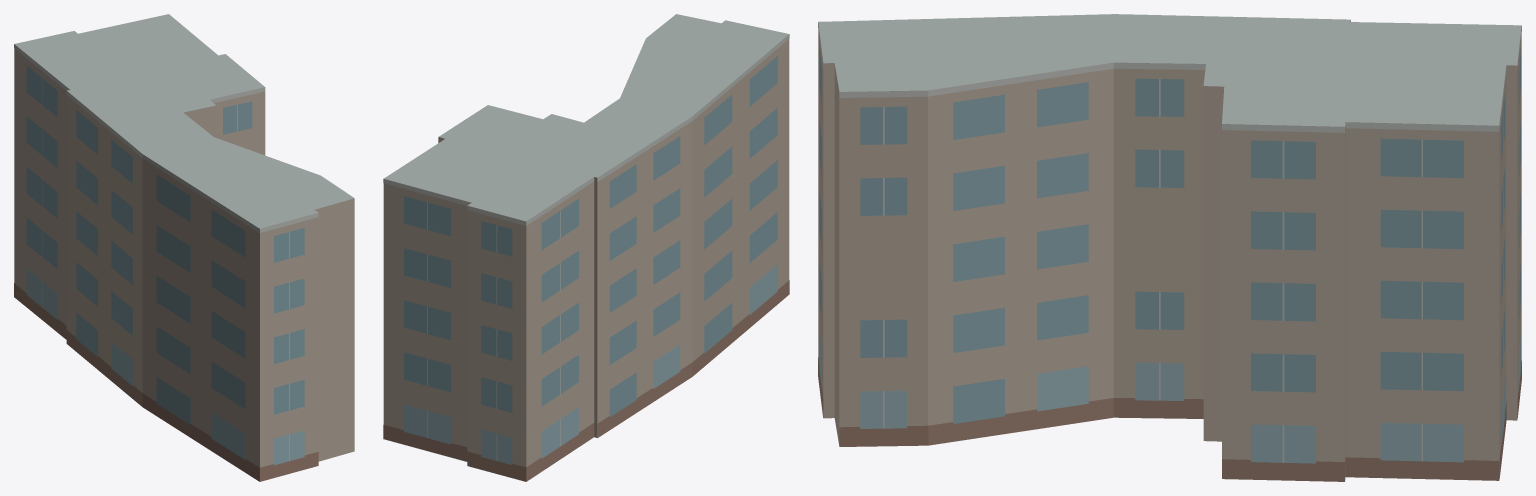
File: survey-upis-32520520.glb
The picture shows the model from 3 angles, left to right: view 1: azimuth 30°, elevation 25°; view 2: azimuth 150°, elevation 25°; view 3: azimuth 270°, elevation 25°; orthographic projection. The views are drawn at different scales.
Visible parts, largest first — view 1: survey-upis-32520520.tmp; view 2: survey-upis-32520520.tmp; view 3: survey-upis-32520520.tmp.
Boxes of the visible parts, x1=… form: survey-upis-32520520.tmp: x1=14, y1=14, x2=354, y2=481; survey-upis-32520520.tmp: x1=383, y1=14, x2=789, y2=481; survey-upis-32520520.tmp: x1=818, y1=14, x2=1521, y2=481.
Size of the model in its own units: 9.69 by 14.2 by 25.51.
